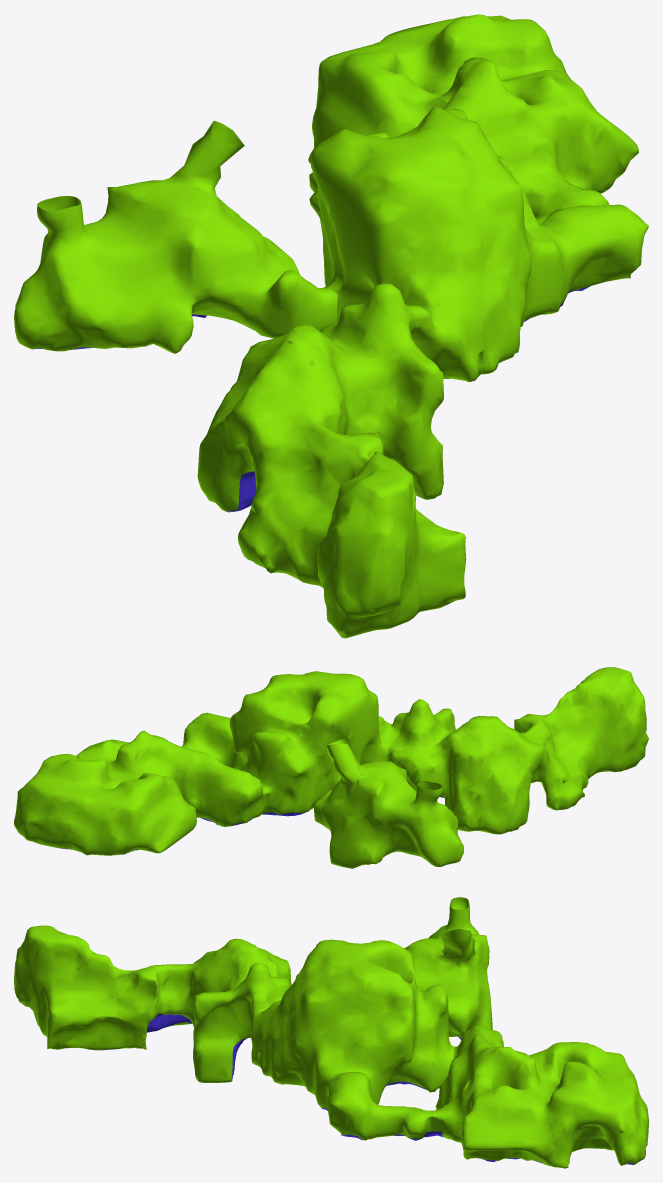
The model's file is caves_ld.FBX.
3 views of the same model, one above another, from view 1: azimuth 30°, elevation 25°; view 2: azimuth 150°, elevation 25°; view 3: azimuth 270°, elevation 25° (orthographic). The views are drawn at different scales.
Visible parts, largest first — view 1: room_04, room_02, room_01, room_03; view 2: room_04, room_03, room_02, room_01; view 3: room_02, room_04, room_03, room_01.
Boxes of the visible parts, bbox=[...] form: room_04: bbox=[197, 283, 466, 638]; room_02: bbox=[309, 107, 648, 381]; room_01: bbox=[14, 120, 337, 353]; room_03: bbox=[308, 14, 638, 201]; room_04: bbox=[387, 667, 648, 834]; room_03: bbox=[14, 730, 267, 855]; room_02: bbox=[181, 671, 407, 816]; room_01: bbox=[314, 738, 464, 868]; room_02: bbox=[250, 939, 454, 1140]; room_04: bbox=[14, 925, 291, 1082]; room_03: bbox=[435, 1025, 648, 1168]; room_01: bbox=[404, 897, 492, 1039].
Bounding box in the file's own units: 8516 × 3193 × 11377.
